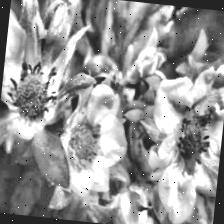Blossom Blight: (1, 56, 64, 128), (169, 102, 219, 180)
